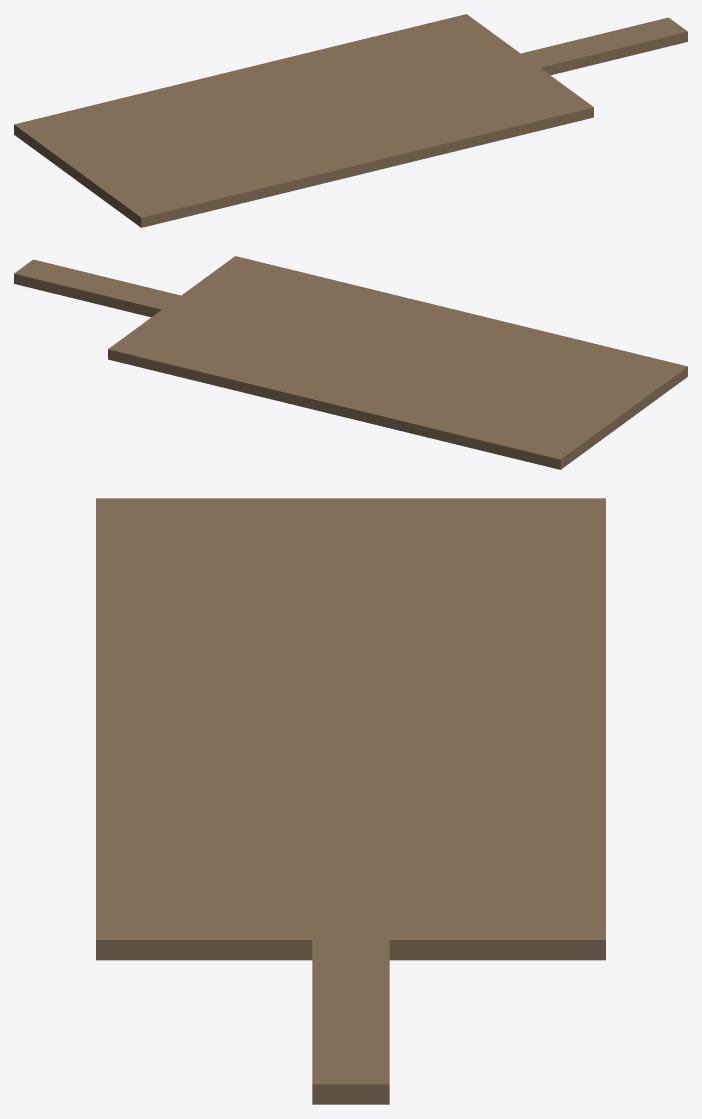
Rendered from gallery-foundation-ground-C.glb.
The picture shows the model from 3 angles, top to bottom: view 1: azimuth 30°, elevation 25°; view 2: azimuth 150°, elevation 25°; view 3: azimuth 270°, elevation 25°; orthographic projection. The views are drawn at different scales.
Visible parts, largest first — view 1: FOUNDATION-GROUND-C; view 2: FOUNDATION-GROUND-C; view 3: FOUNDATION-GROUND-C.
Boxes of the visible parts, x1,y1,x2,y2 form: FOUNDATION-GROUND-C: (14, 14, 687, 227); FOUNDATION-GROUND-C: (14, 256, 687, 469); FOUNDATION-GROUND-C: (96, 498, 605, 1104).
Size of the model in its own units: 21.49 by 0.35 by 7.9.
